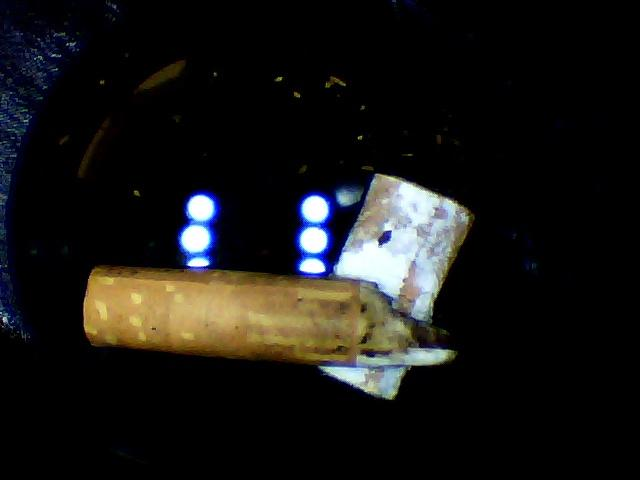megot: (297, 167, 480, 425), (70, 266, 486, 370)
